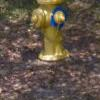Hydrant: (25, 2, 76, 76)
